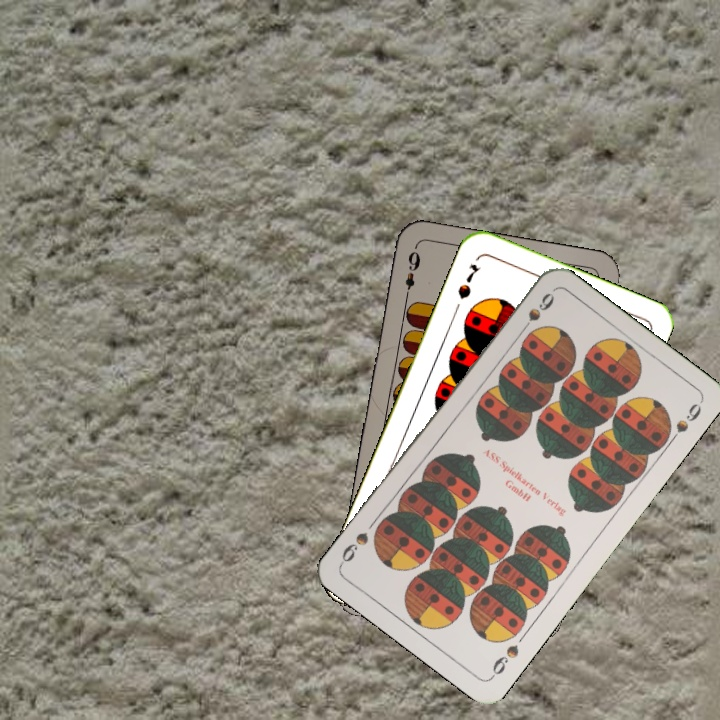E9: (401, 247, 423, 303)
S7: (453, 260, 482, 302)
S9: (515, 288, 557, 338), (487, 640, 522, 681)
